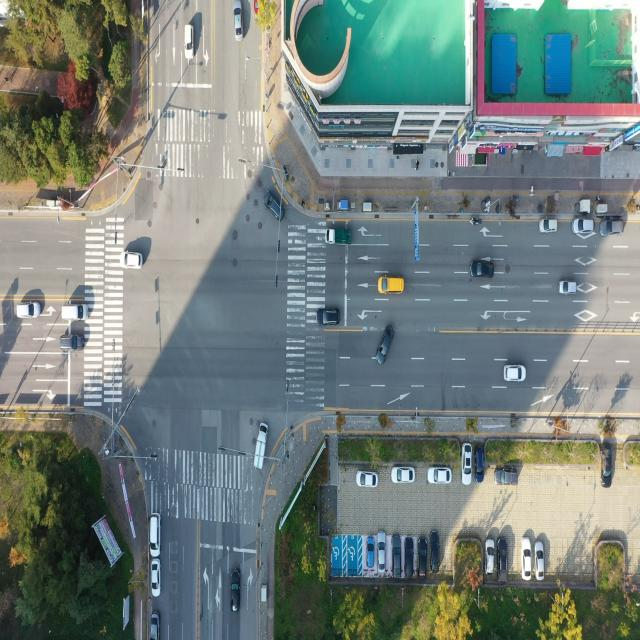car: (376, 326, 394, 366), (150, 515, 162, 559), (376, 277, 403, 296), (601, 443, 613, 484), (62, 305, 88, 323), (494, 466, 517, 486), (267, 196, 284, 223), (405, 538, 416, 578), (498, 538, 508, 582), (470, 262, 493, 281), (317, 309, 340, 328), (232, 571, 242, 614), (523, 538, 533, 579), (419, 537, 429, 578), (17, 303, 41, 320), (62, 336, 86, 353), (122, 251, 144, 269), (574, 218, 596, 236), (393, 467, 416, 484), (602, 219, 625, 236), (150, 560, 160, 598), (430, 467, 452, 484), (430, 530, 439, 571), (392, 534, 401, 575), (504, 366, 524, 384), (357, 470, 377, 488), (463, 444, 472, 484), (476, 446, 486, 482), (235, 3, 244, 42), (365, 536, 374, 572), (185, 24, 194, 60), (379, 532, 387, 572), (148, 612, 159, 640), (535, 541, 543, 578), (559, 280, 577, 296), (487, 540, 495, 576), (538, 219, 556, 233)
small_truck: (253, 424, 268, 471), (326, 230, 350, 247)
